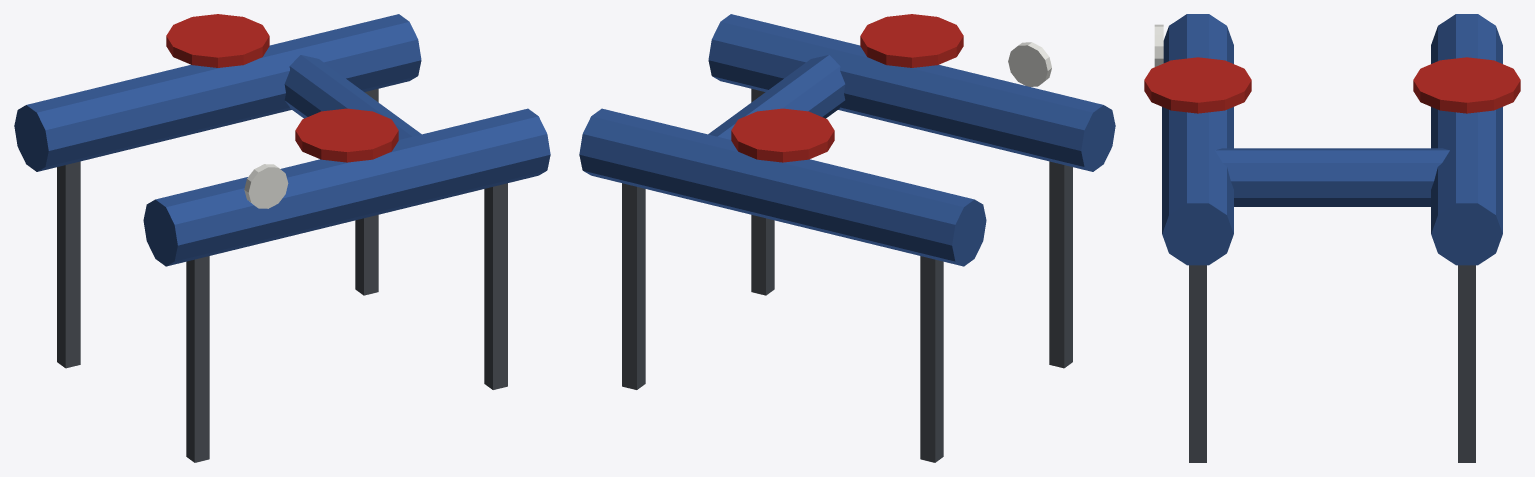
Rendered from pump set.glb.
3 renders of one model, left to right at view 1: azimuth 30°, elevation 25°; view 2: azimuth 150°, elevation 25°; view 3: azimuth 270°, elevation 25°, orthographic. The views are drawn at different scales.
Visible parts, largest first — view 1: pump set; view 2: pump set; view 3: pump set.
Boxes of the visible parts, left/top/right/bottom form: pump set: left=14, top=14, right=550, bottom=462; pump set: left=579, top=14, right=1115, bottom=462; pump set: left=1144, top=14, right=1520, bottom=462.
Bounding box in the file's own units: 1.5 × 1.13 × 1.26.
